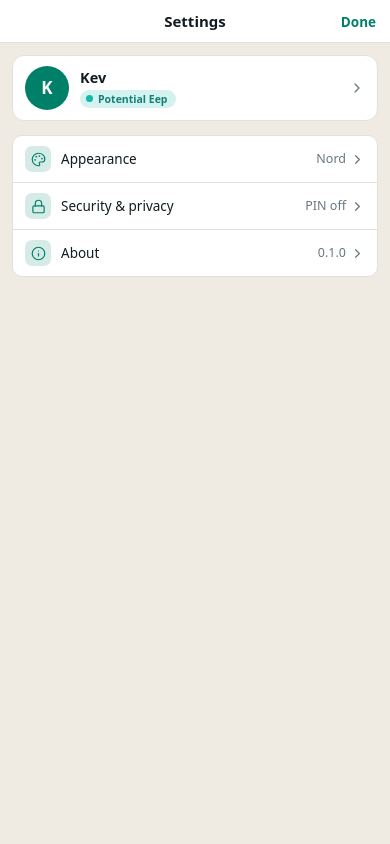
Settings on phones › Log out in Security & privacy asks first; Cancel keeps you signed in
Step 1. Click the button "Security & privacy PIN off" → point(117, 206), box left=13, top=182, right=377, bottom=229
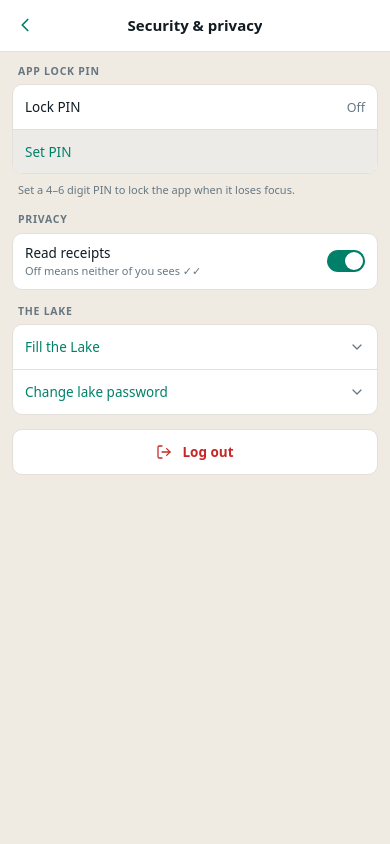
Step 2. Click the button "Log out" → point(195, 452), box left=13, top=430, right=377, bottom=474
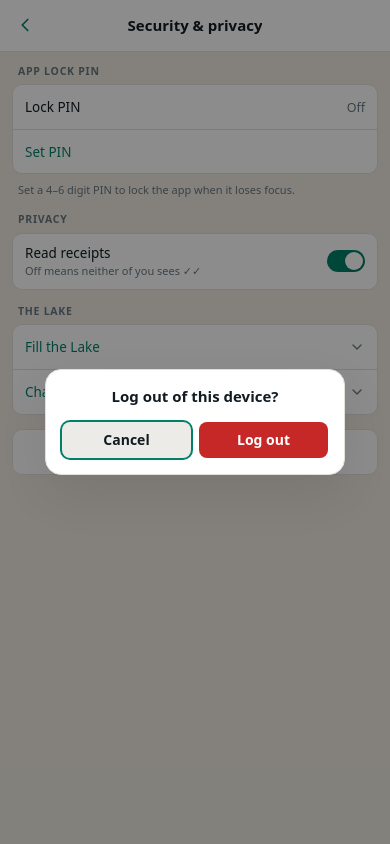
Step 3. Click the button "Cancel" → point(126, 440), box left=62, top=422, right=191, bottom=458
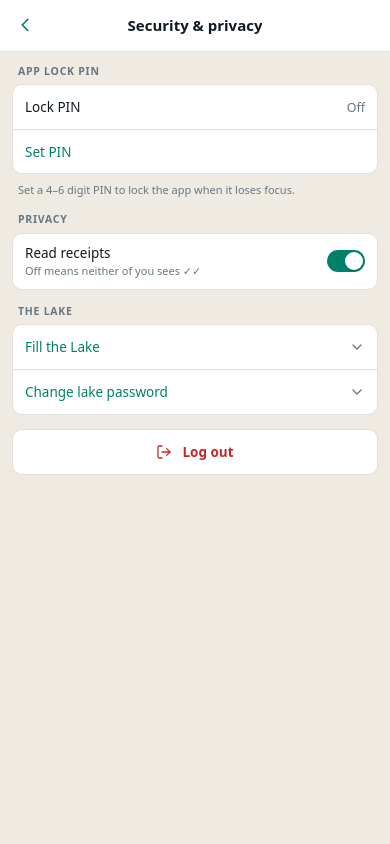
Expected: the dialog "Log out of this device? Cancel Log out" is gone
